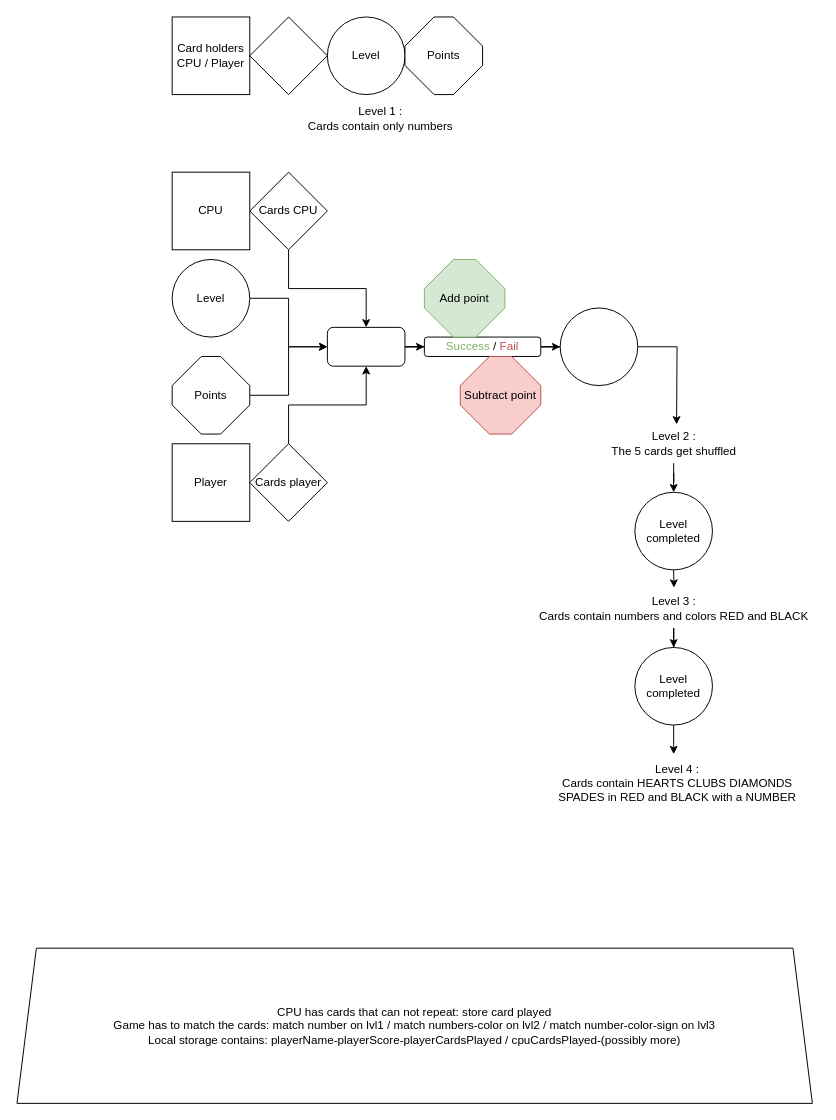
The diagram is 836 pixels wide and 1120 high, and some of its shapes have lost their labels. The box of each missing label's shape, as (x1, y1, x2, y2) in pixels:
Cards: (249, 16, 327, 95)
Level up if all cards matched: (559, 307, 638, 386)
Match or pass: (326, 326, 405, 366)
